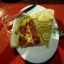pepperoni: (29, 20, 40, 45), (17, 35, 31, 46), (18, 24, 30, 35)
pizza: (7, 12, 58, 47)
